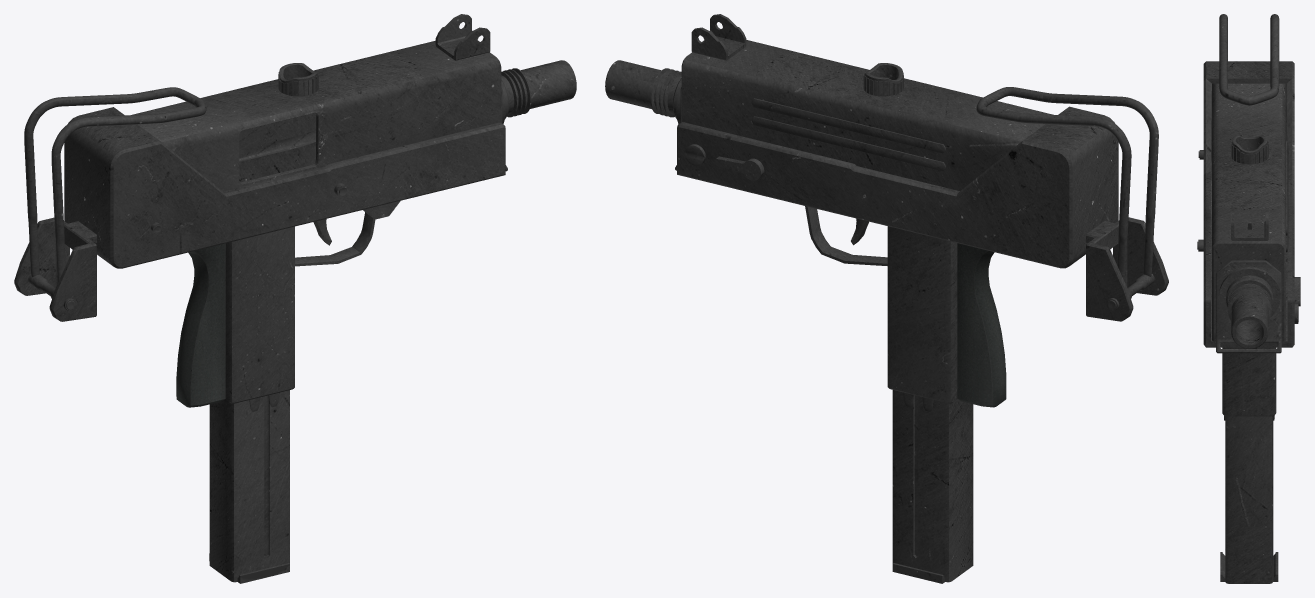
File: mac-10.glb
3 views of the same model, side by side, from view 1: azimuth 30°, elevation 25°; view 2: azimuth 150°, elevation 25°; view 3: azimuth 270°, elevation 25° (orthographic). The views are drawn at different scales.
Parts seen in each view (by area): view 1: Cube.002; view 2: Cube.002; view 3: Cube.002.
Boxes of the visible parts, left/top/right/bottom form: Cube.002: left=14, top=14, right=576, bottom=583; Cube.002: left=605, top=14, right=1168, bottom=583; Cube.002: left=1197, top=14, right=1300, bottom=583.
Size of the model in its own units: 4.9 by 4.4 by 0.876.
Materials: 1 (1 with a texture image).
